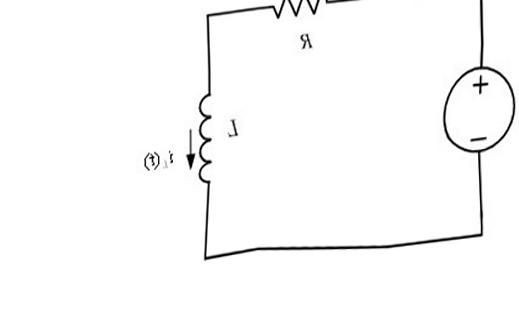Battery: (436, 56, 518, 157)
